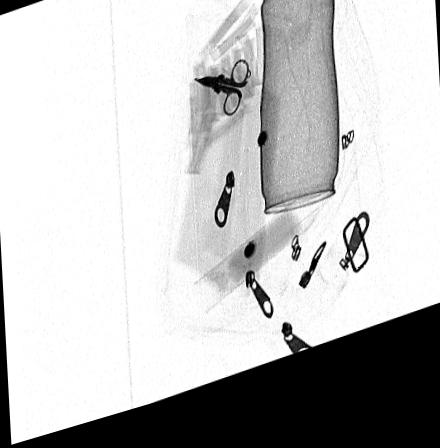Scissors: (193, 71, 251, 132)
